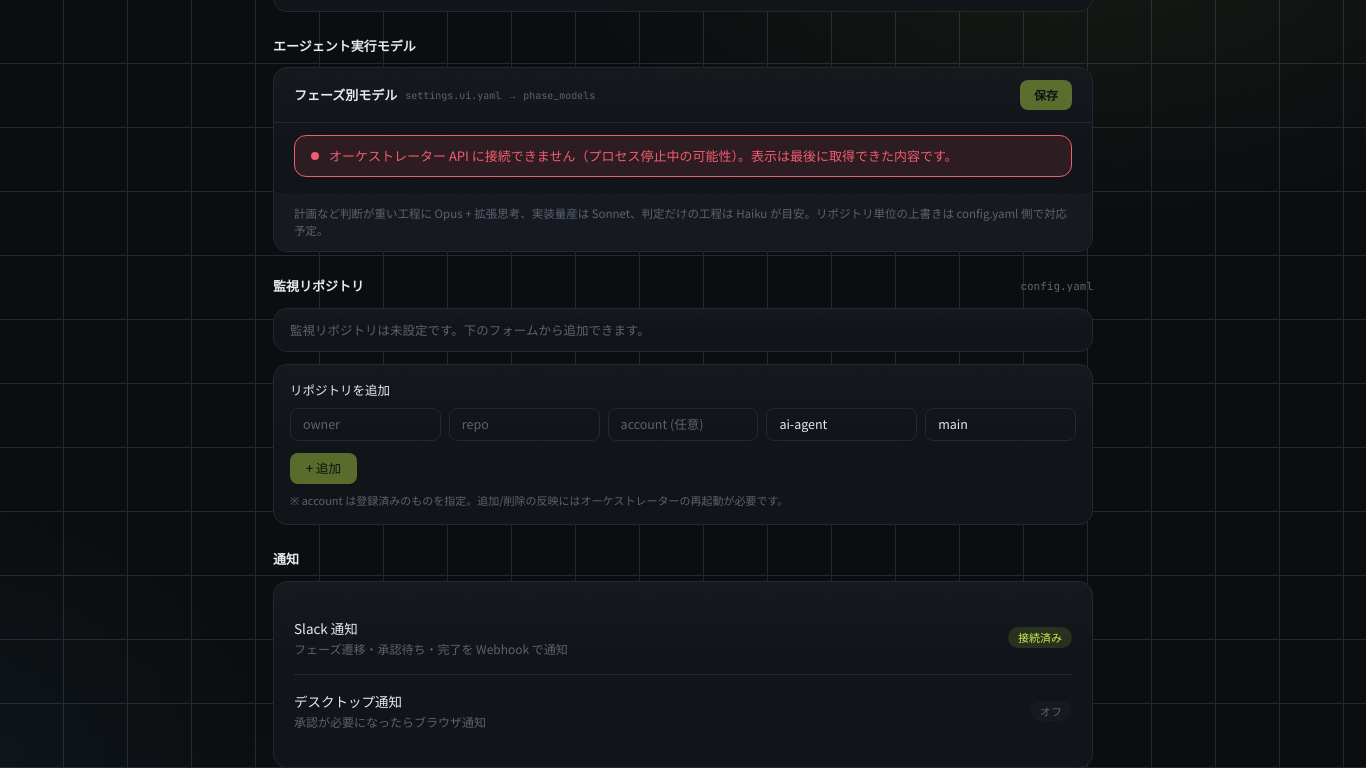
Test: SettingsPage リポジトリ追加/削除 (#138) › フォームから追加すると createRepository を呼び再起動案内を出す
(page scrolled)
Type "myorg" into the field with placeholder "owner".
click(365, 424); type("myorg")  # box [290,408,441,441]
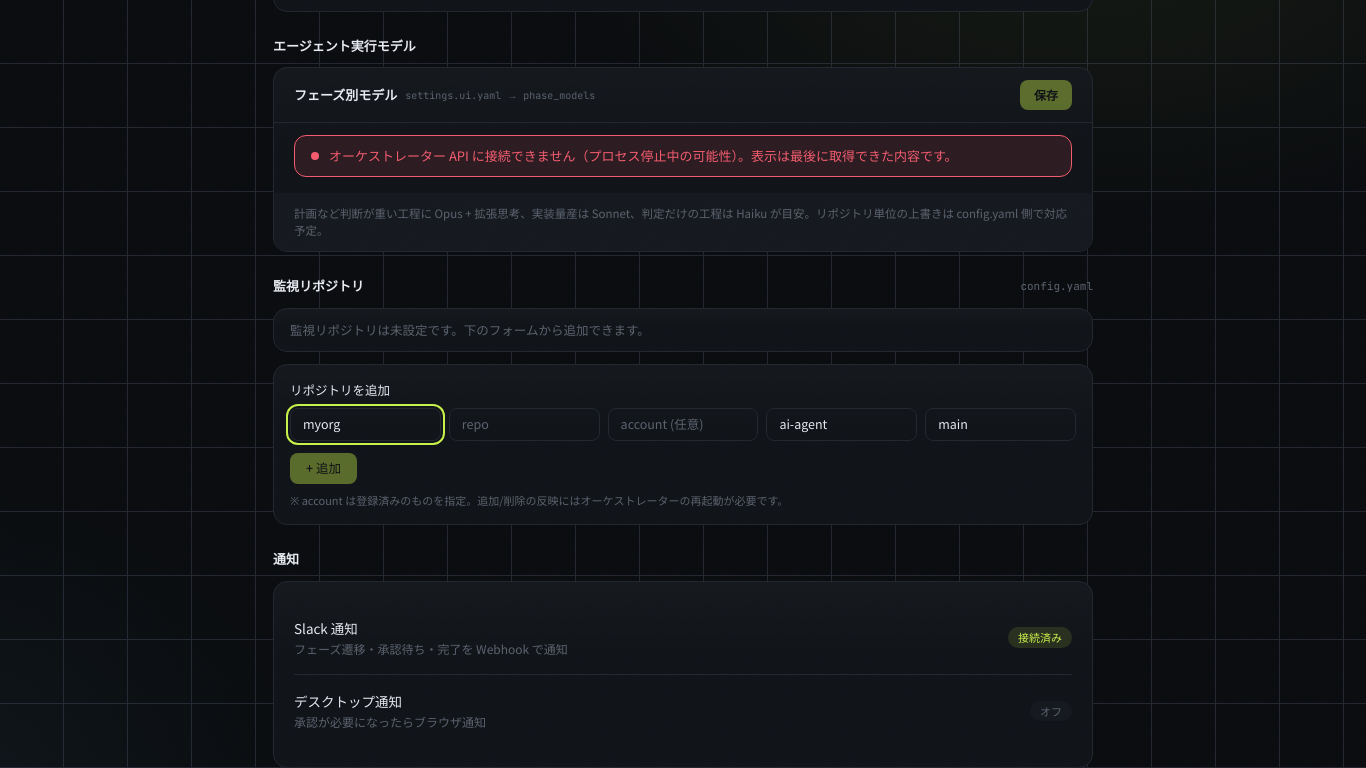
Type "newapp" into the field with placeholder "repo".
click(524, 424); type("newapp")  # box [449,408,600,441]
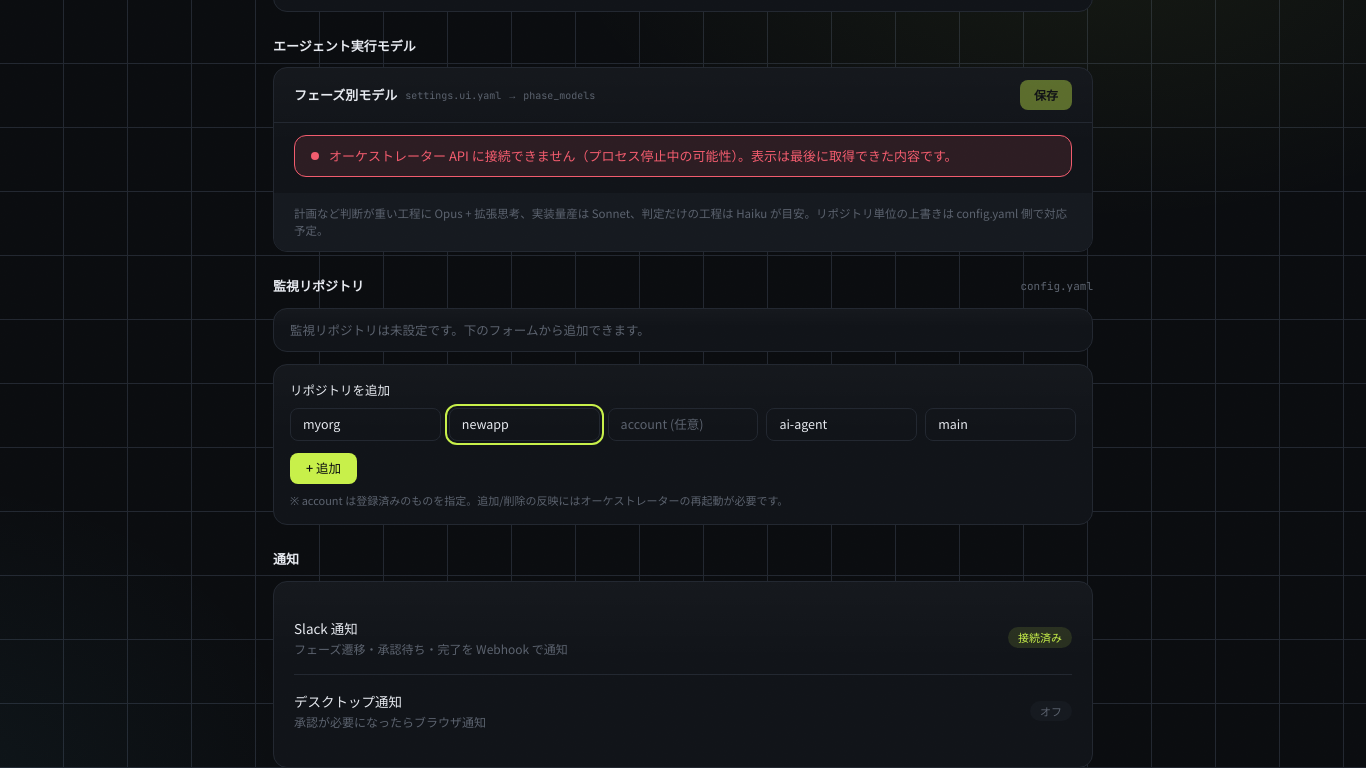
Click the button "+ 追加".
click(324, 468)  # box [290,453,357,484]
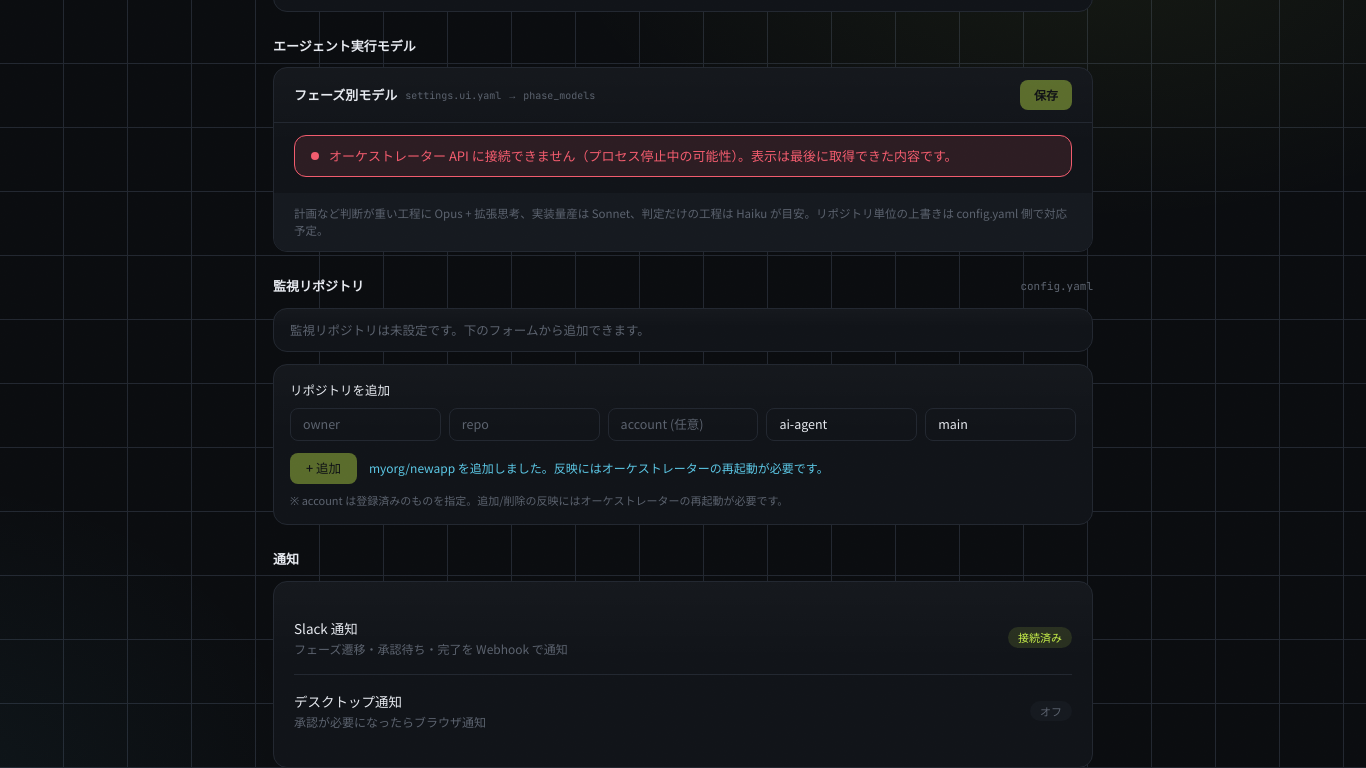
Check: the text "myorg/newapp を追加しました。反映にはオーケストレーターの再起動が必要です。" is shown, box [369,459,829,477]
